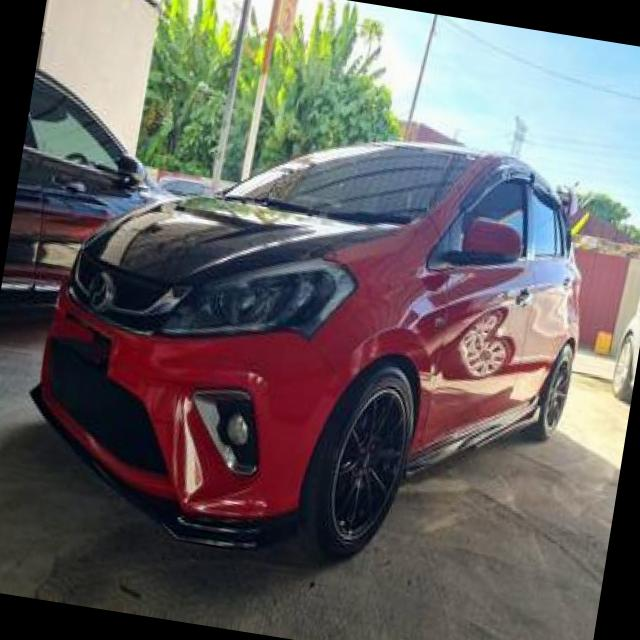PeroduaMyvi: (8, 79, 609, 602)
